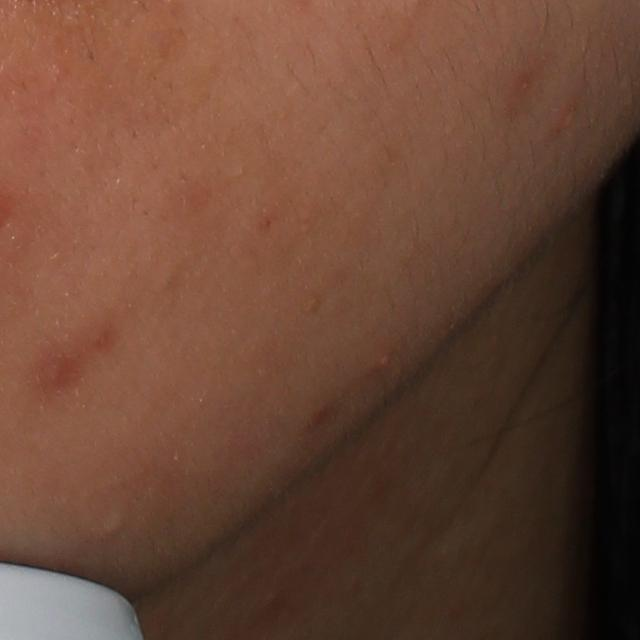comedo: (99, 508, 132, 542)
